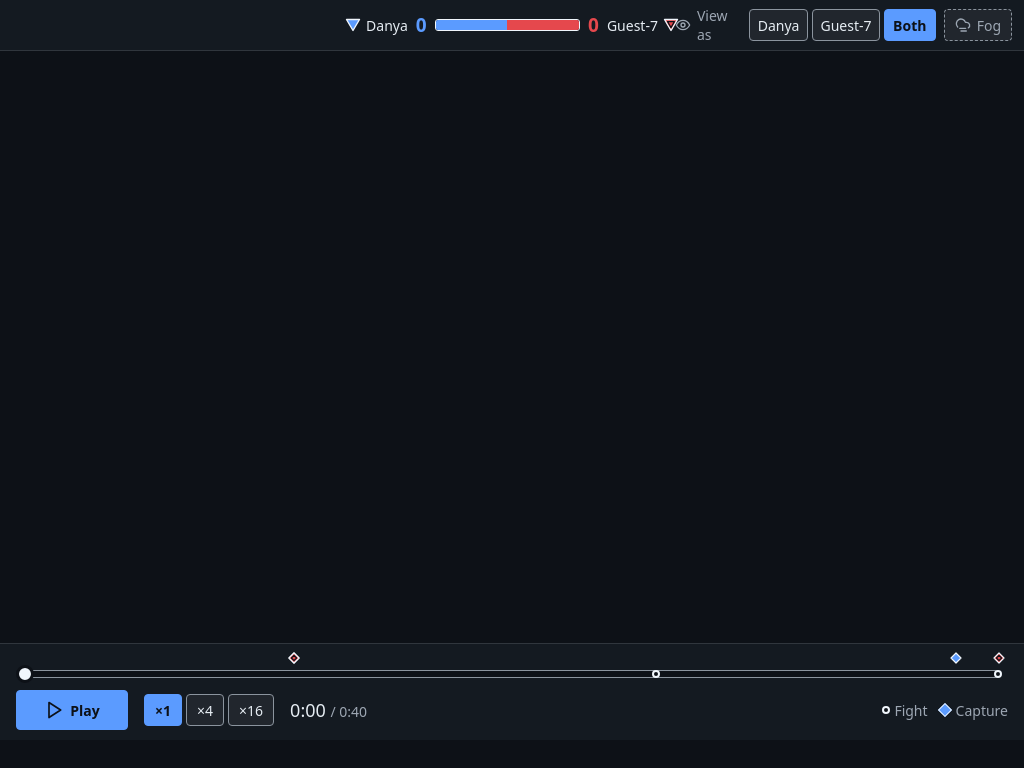
Test case: ReplayViewer "View as" (#599) › shows who won by nick at the end
This screenshot has width=1024, height=768.
Set the slider named "Position in the match" to "409": (1000, 674) [16,662,1008,686]
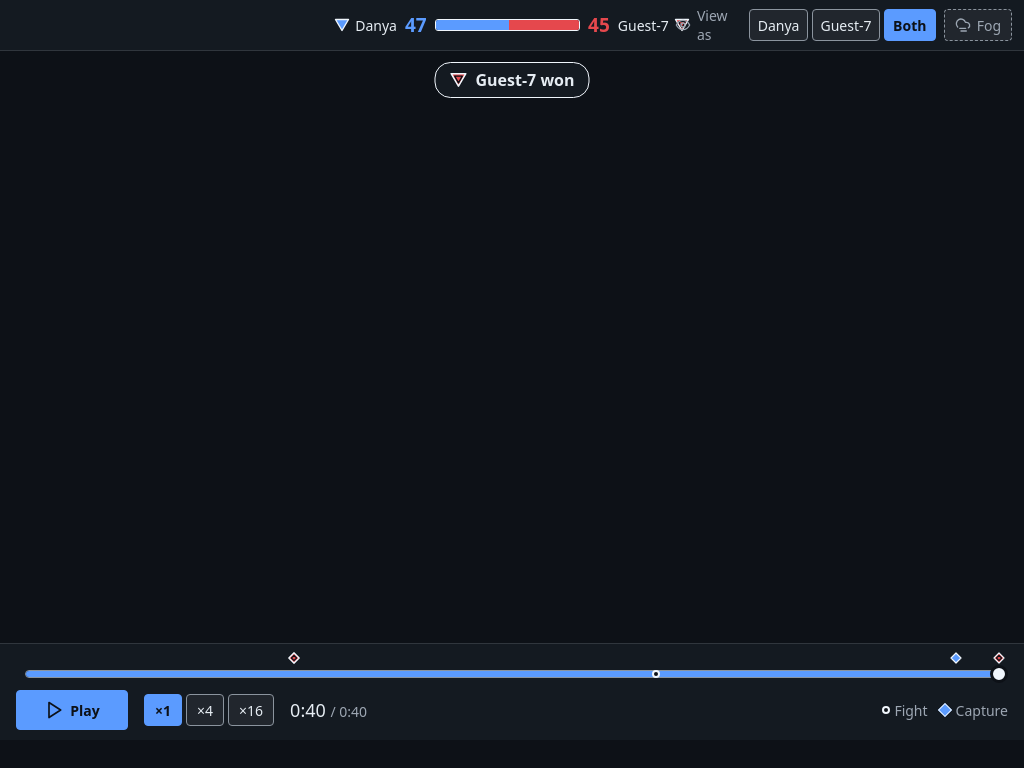
Now the message with class "result" reads "Guest-7 won", box [476,69,574,91]
